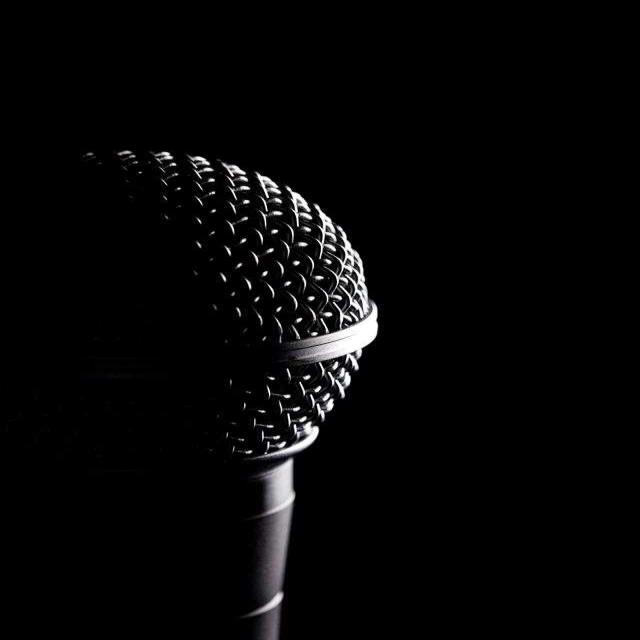microphone: (26, 155, 378, 622)
